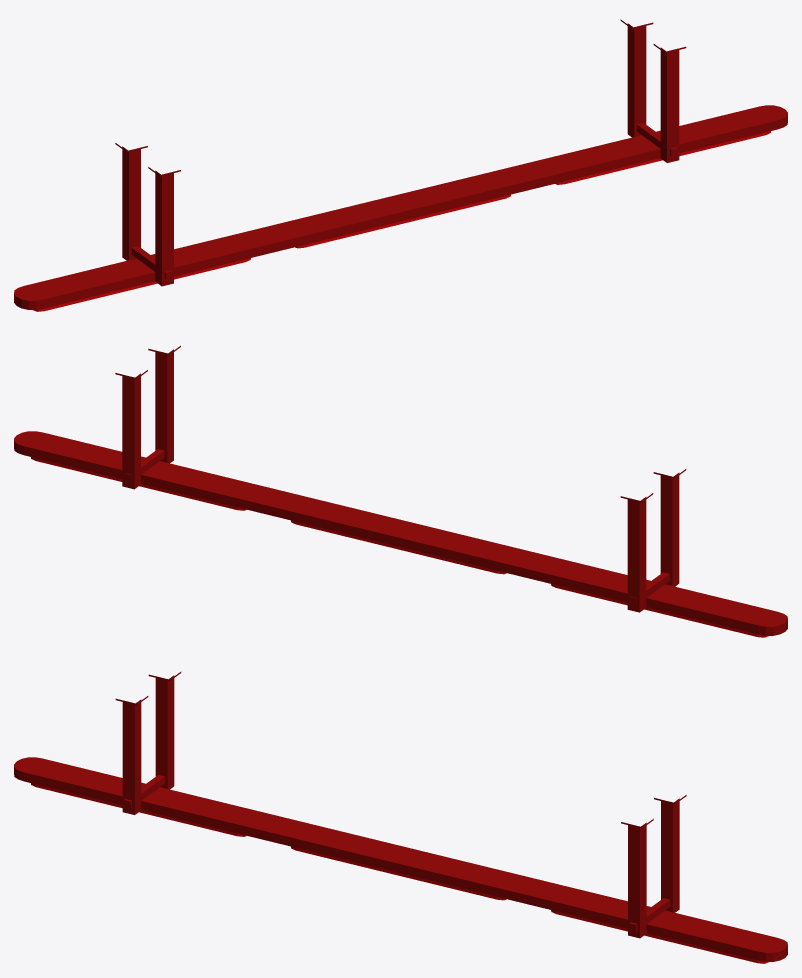
Rendered from S_Envi_Common_Light_01a.gltf.
3 renders of one model, top to bottom at view 1: azimuth 30°, elevation 25°; view 2: azimuth 150°, elevation 25°; view 3: azimuth 330°, elevation 25°, orthographic.
Parts seen in each view (by area): view 1: S_Envi_Common_Light_01a; view 2: S_Envi_Common_Light_01a; view 3: S_Envi_Common_Light_01a.
Part boxes in pixels (x1=…): S_Envi_Common_Light_01a: x1=14, y1=19, x2=787, y2=311; S_Envi_Common_Light_01a: x1=14, y1=345, x2=787, y2=637; S_Envi_Common_Light_01a: x1=14, y1=671, x2=787, y2=963.
Size of the model in its own units: 3.07 by 0.4779 by 0.3073.
